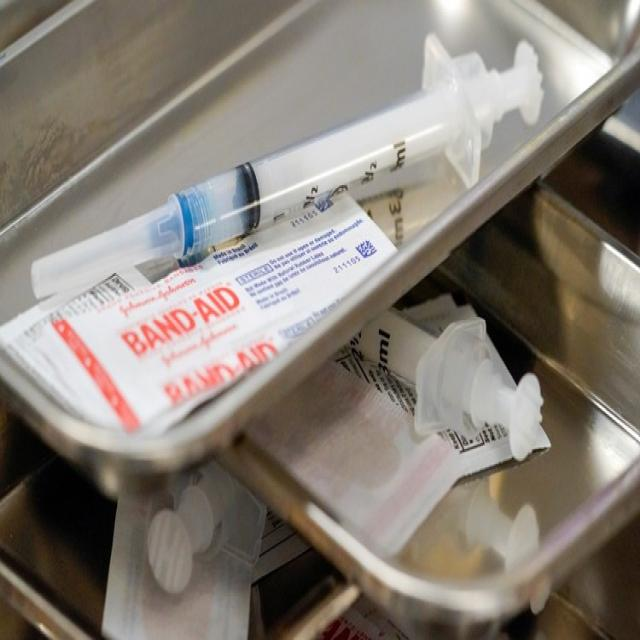B3: (15, 24, 576, 311), (341, 282, 564, 482)
